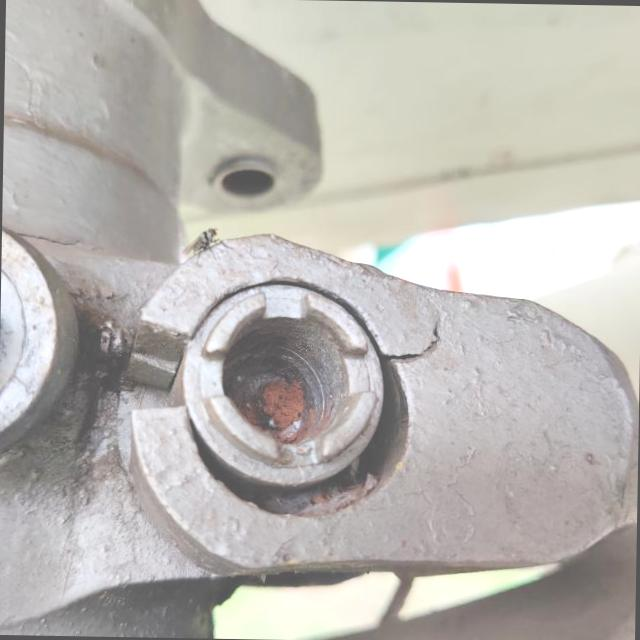crack: (381, 312, 449, 364)
